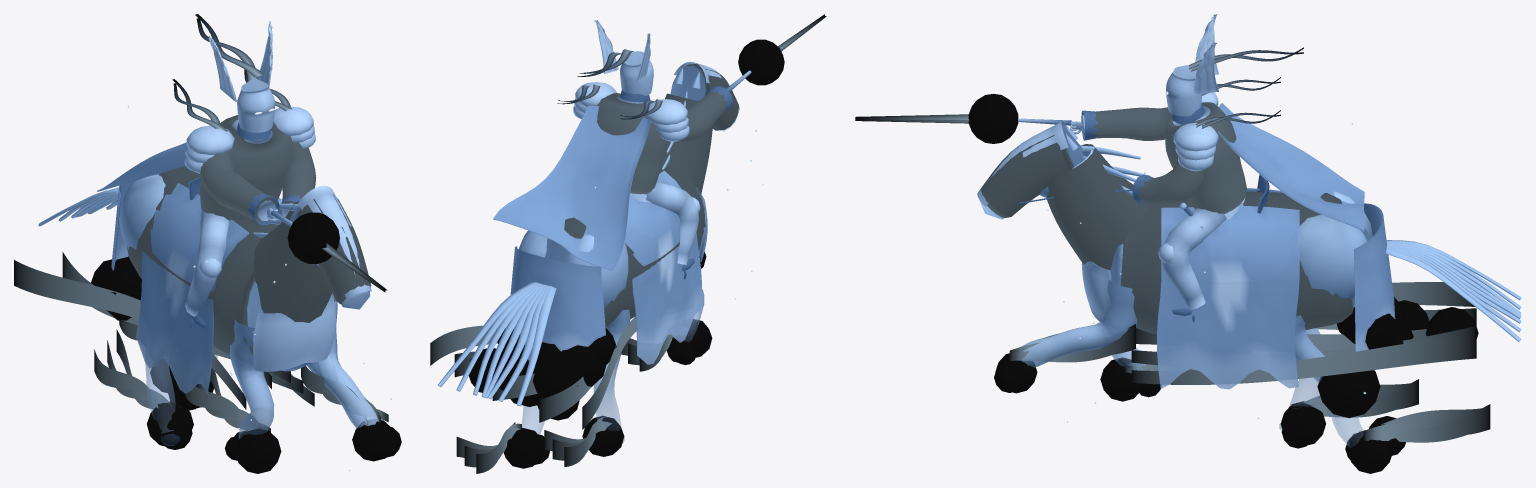
The model's file is mantas.glb.
3 views of the same model, side by side, from view 1: azimuth 30°, elevation 25°; view 2: azimuth 150°, elevation 25°; view 3: azimuth 270°, elevation 25° (orthographic). The views are drawn at different scales.
Visible parts, largest first — view 1: mantas-fx, mantas-ghost; view 2: mantas-ghost, mantas-fx; view 3: mantas-ghost, mantas-fx.
Boxes of the visible parts, bbox=[...] form: mantas-fx: bbox=[14, 14, 401, 473]; mantas-ghost: bbox=[38, 21, 378, 445]; mantas-ghost: bbox=[438, 20, 751, 443]; mantas-fx: bbox=[430, 14, 826, 473]; mantas-ghost: bbox=[977, 14, 1521, 447]; mantas-fx: bbox=[855, 47, 1490, 473].
Bounding box in the file's own units: 0.8854 × 2.06 × 2.9.
